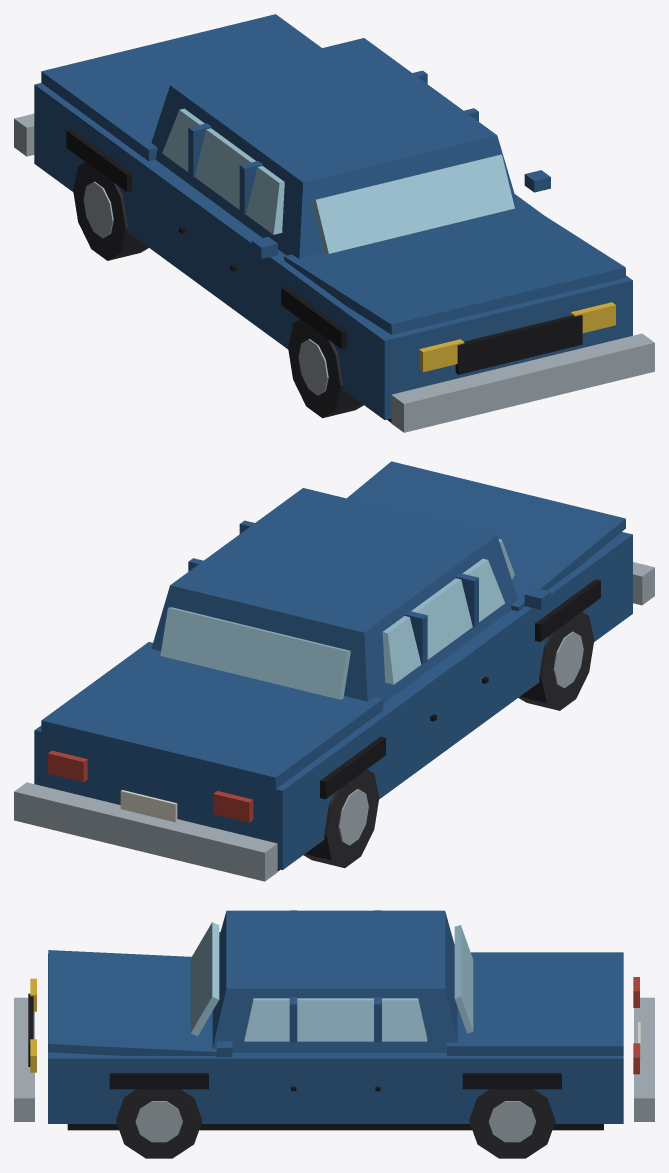
Rendered from GV_Sedan_Blue_01.glb.
The picture shows the model from 3 angles, top to bottom: view 1: azimuth 30°, elevation 25°; view 2: azimuth 150°, elevation 25°; view 3: azimuth 270°, elevation 25°; orthographic projection. The views are drawn at different scales.
Visible parts, largest first — view 1: GV_Sedan_Blue_01; view 2: GV_Sedan_Blue_01; view 3: GV_Sedan_Blue_01.
Part boxes in pixels (<box>): GV_Sedan_Blue_01: <box>14,14,654,432</box>; GV_Sedan_Blue_01: <box>14,461,654,881</box>; GV_Sedan_Blue_01: <box>14,910,654,1158</box>.
Size of the model in its own units: 2.1 by 1.33 by 4.9.
1 material, 1 textured.
